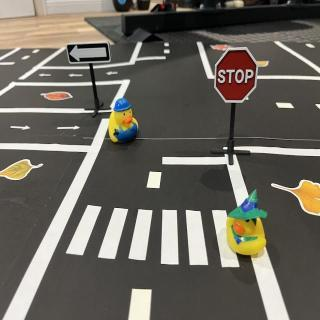duck_regular: (227, 193, 267, 259)
duck_specialty: (109, 99, 139, 145)
road_crosswalk: (63, 203, 245, 271)
road_oneway: (56, 123, 84, 136), (10, 120, 34, 134), (67, 72, 87, 82), (38, 70, 55, 80), (106, 70, 121, 80)
sign_oneway_left: (66, 43, 112, 67)
sign_stop: (214, 48, 260, 106)
